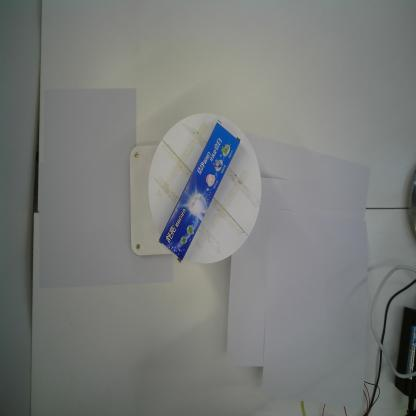Personal Hygiene: (156, 119, 241, 263)
